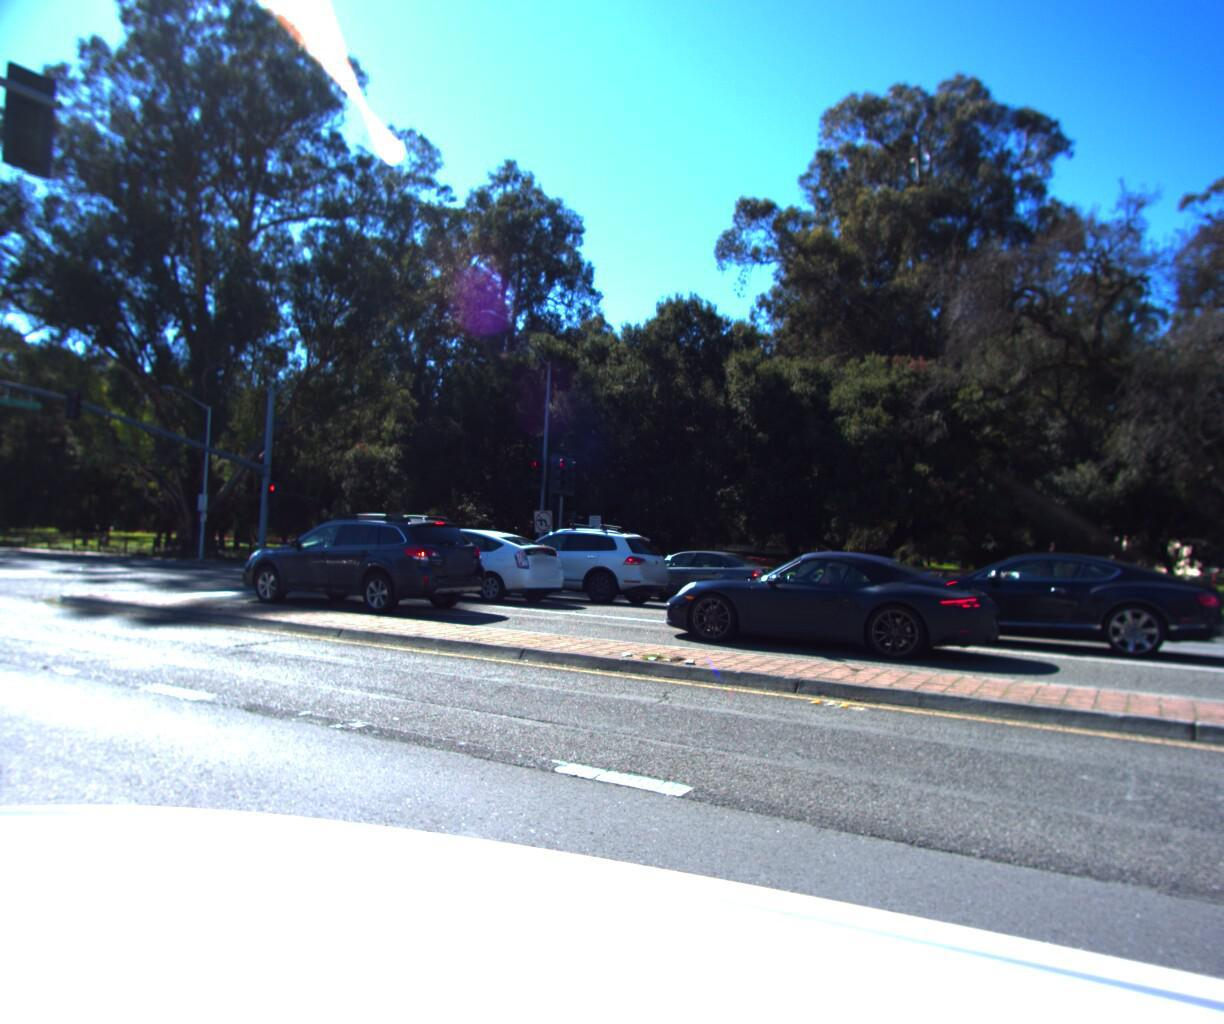car: (637, 539, 1011, 665), (888, 532, 1224, 659), (217, 504, 504, 622), (460, 519, 686, 613), (350, 521, 573, 609), (604, 542, 790, 611)
